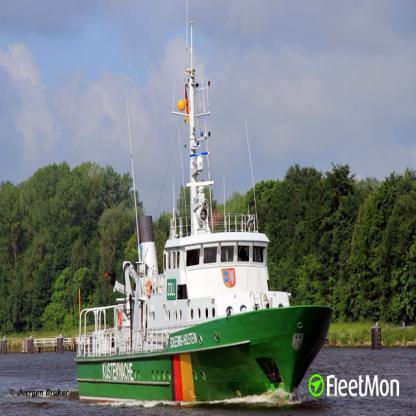Patrol Boat: (74, 0, 334, 406)
